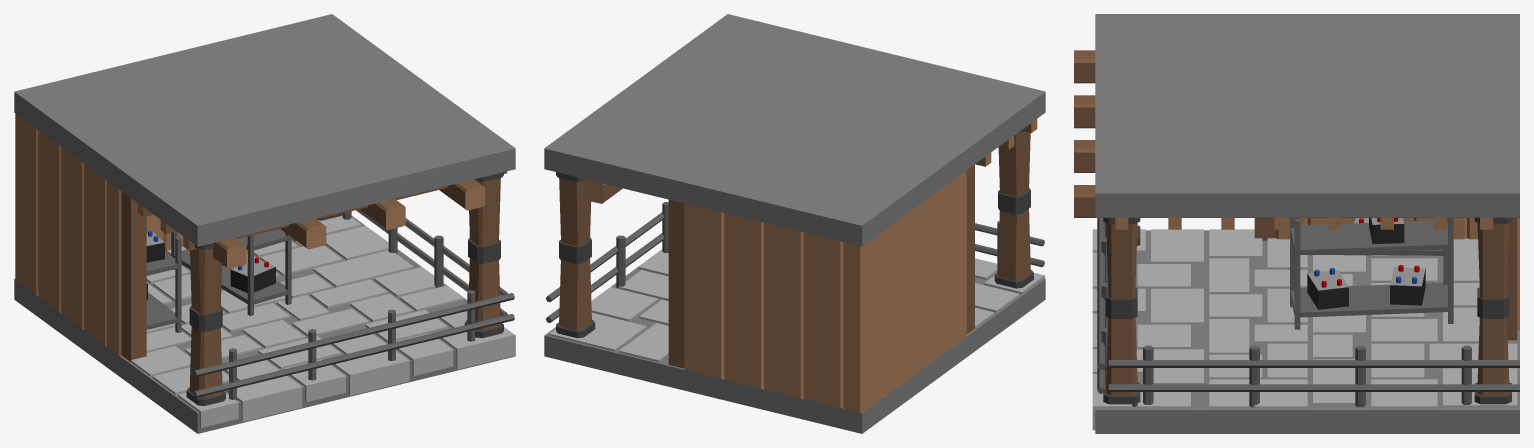
Rendered from BatteryRoom_Lvl_02_Corner.fbx.
3 views of the same model, side by side, from view 1: azimuth 30°, elevation 25°; view 2: azimuth 150°, elevation 25°; view 3: azimuth 270°, elevation 25° (orthographic). The views are drawn at different scales.
Parts seen in each view (by area): view 1: BatteryRoom_Lvl_02_Corner; view 2: BatteryRoom_Lvl_02_Corner; view 3: BatteryRoom_Lvl_02_Corner.
Boxes of the visible parts, left/top/right/bottom form: BatteryRoom_Lvl_02_Corner: left=14, top=14, right=515, bottom=433; BatteryRoom_Lvl_02_Corner: left=544, top=14, right=1045, bottom=433; BatteryRoom_Lvl_02_Corner: left=1074, top=14, right=1519, bottom=433.
Bounding box in the file's own units: 8 × 5 × 8.4.
